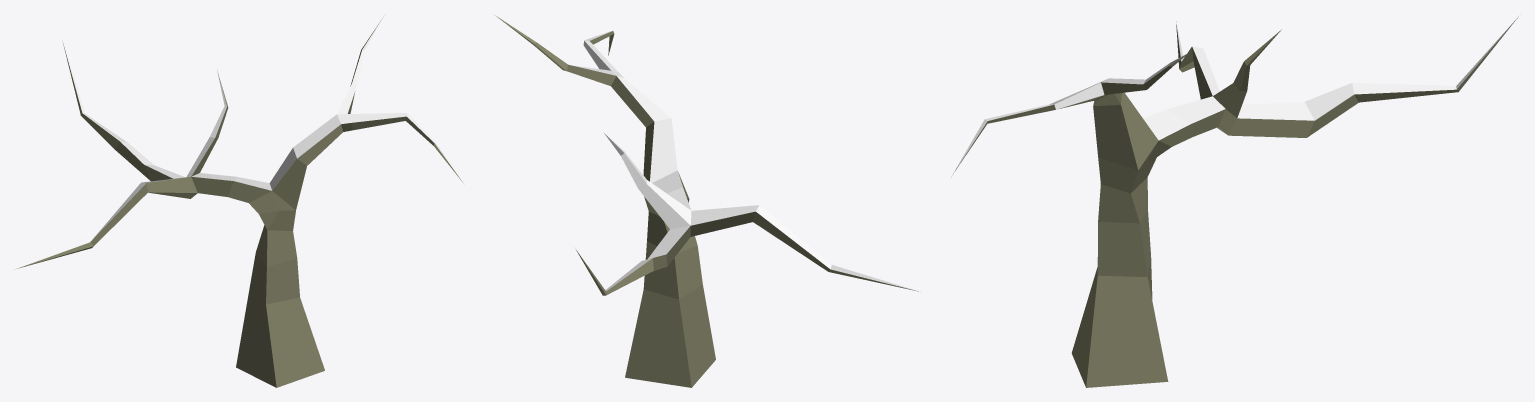
The model's file is Dead_Tree_m_Snow_05.fbx.
3 views of the same model, side by side, from view 1: azimuth 30°, elevation 25°; view 2: azimuth 150°, elevation 25°; view 3: azimuth 270°, elevation 25° (orthographic). The views are drawn at different scales.
Visible parts, largest first — view 1: Dead_Tree_m_Snow_05; view 2: Dead_Tree_m_Snow_05; view 3: Dead_Tree_m_Snow_05.
Boxes of the visible parts, x1,y1,x2,y2 form: Dead_Tree_m_Snow_05: [17, 15, 462, 387]; Dead_Tree_m_Snow_05: [495, 15, 920, 387]; Dead_Tree_m_Snow_05: [951, 16, 1518, 387].
Bounding box in the file's own units: 652 × 502 × 650.
